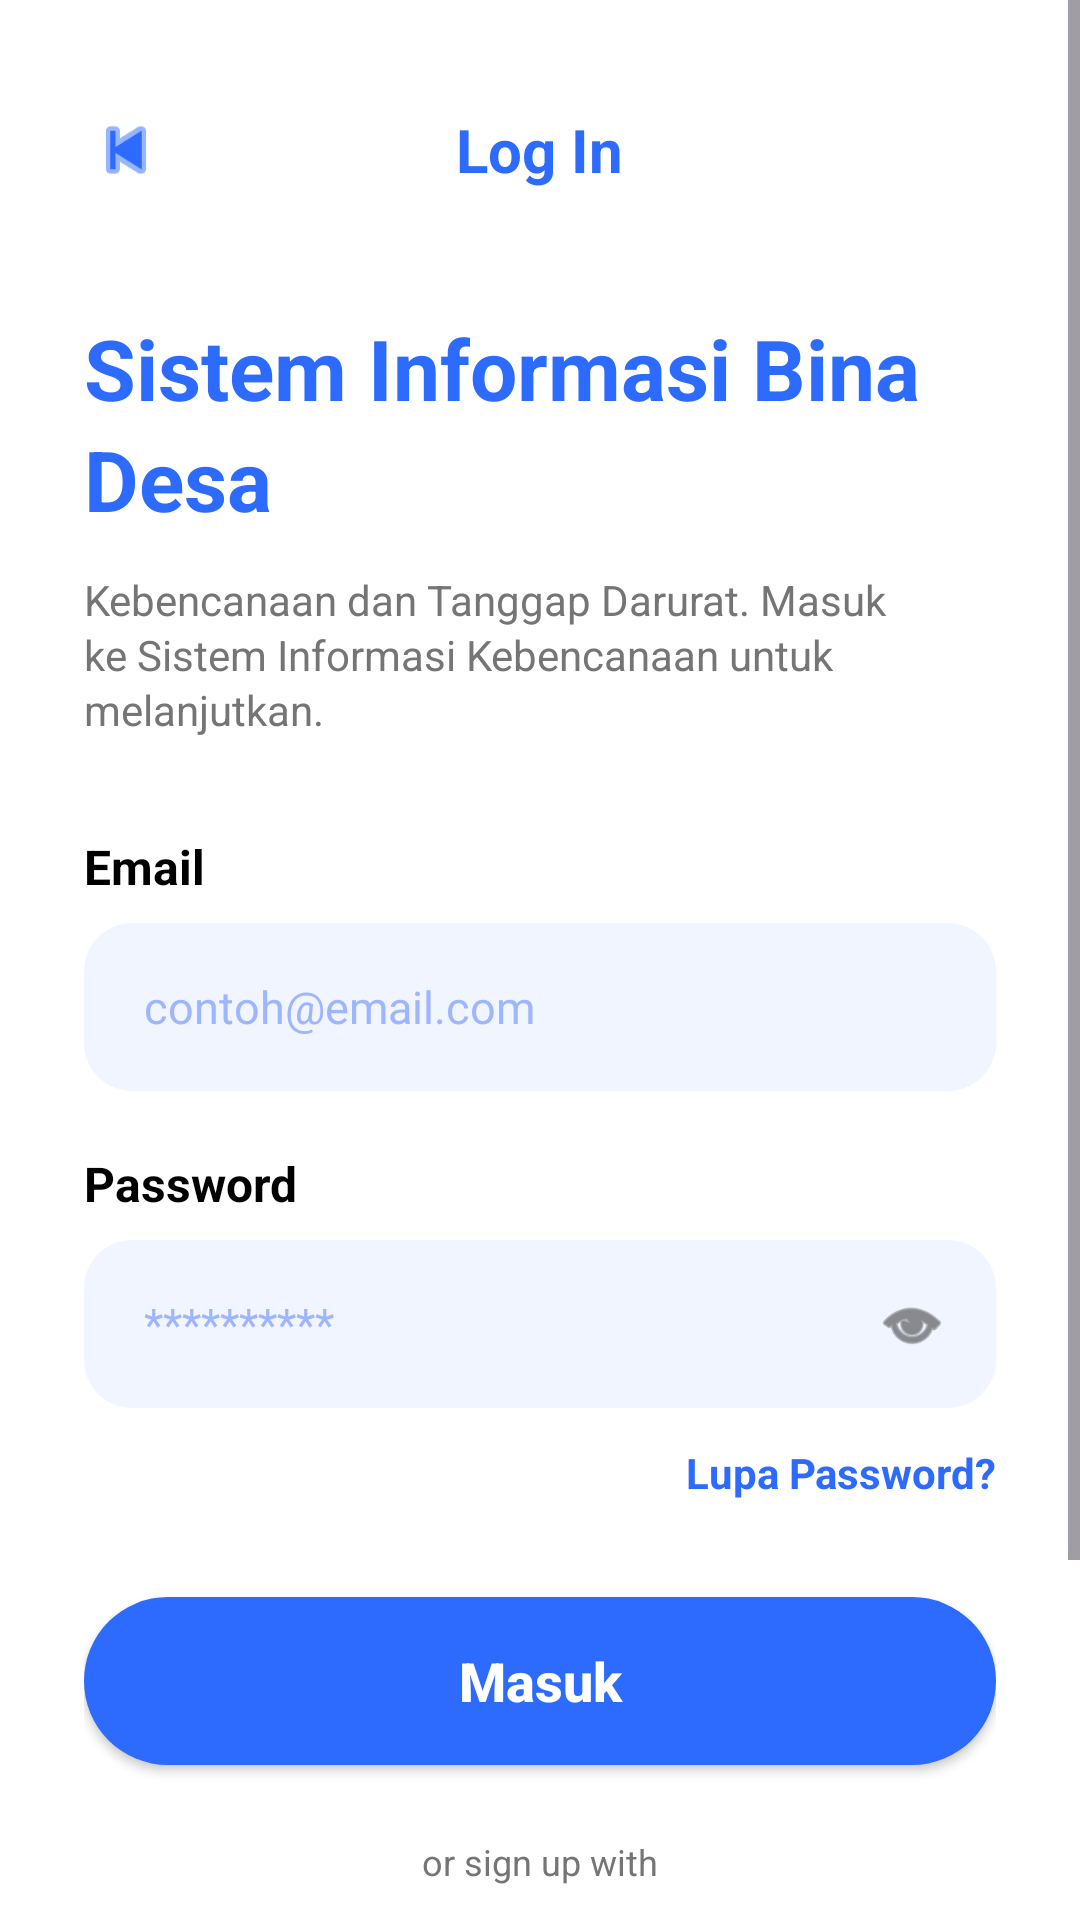

Screen size 1080x1920. Icon name, then its box in pixels as rect(x1, y1, x2, y2):
previous: rect(106, 126, 146, 174)
view: rect(883, 1307, 941, 1344)
